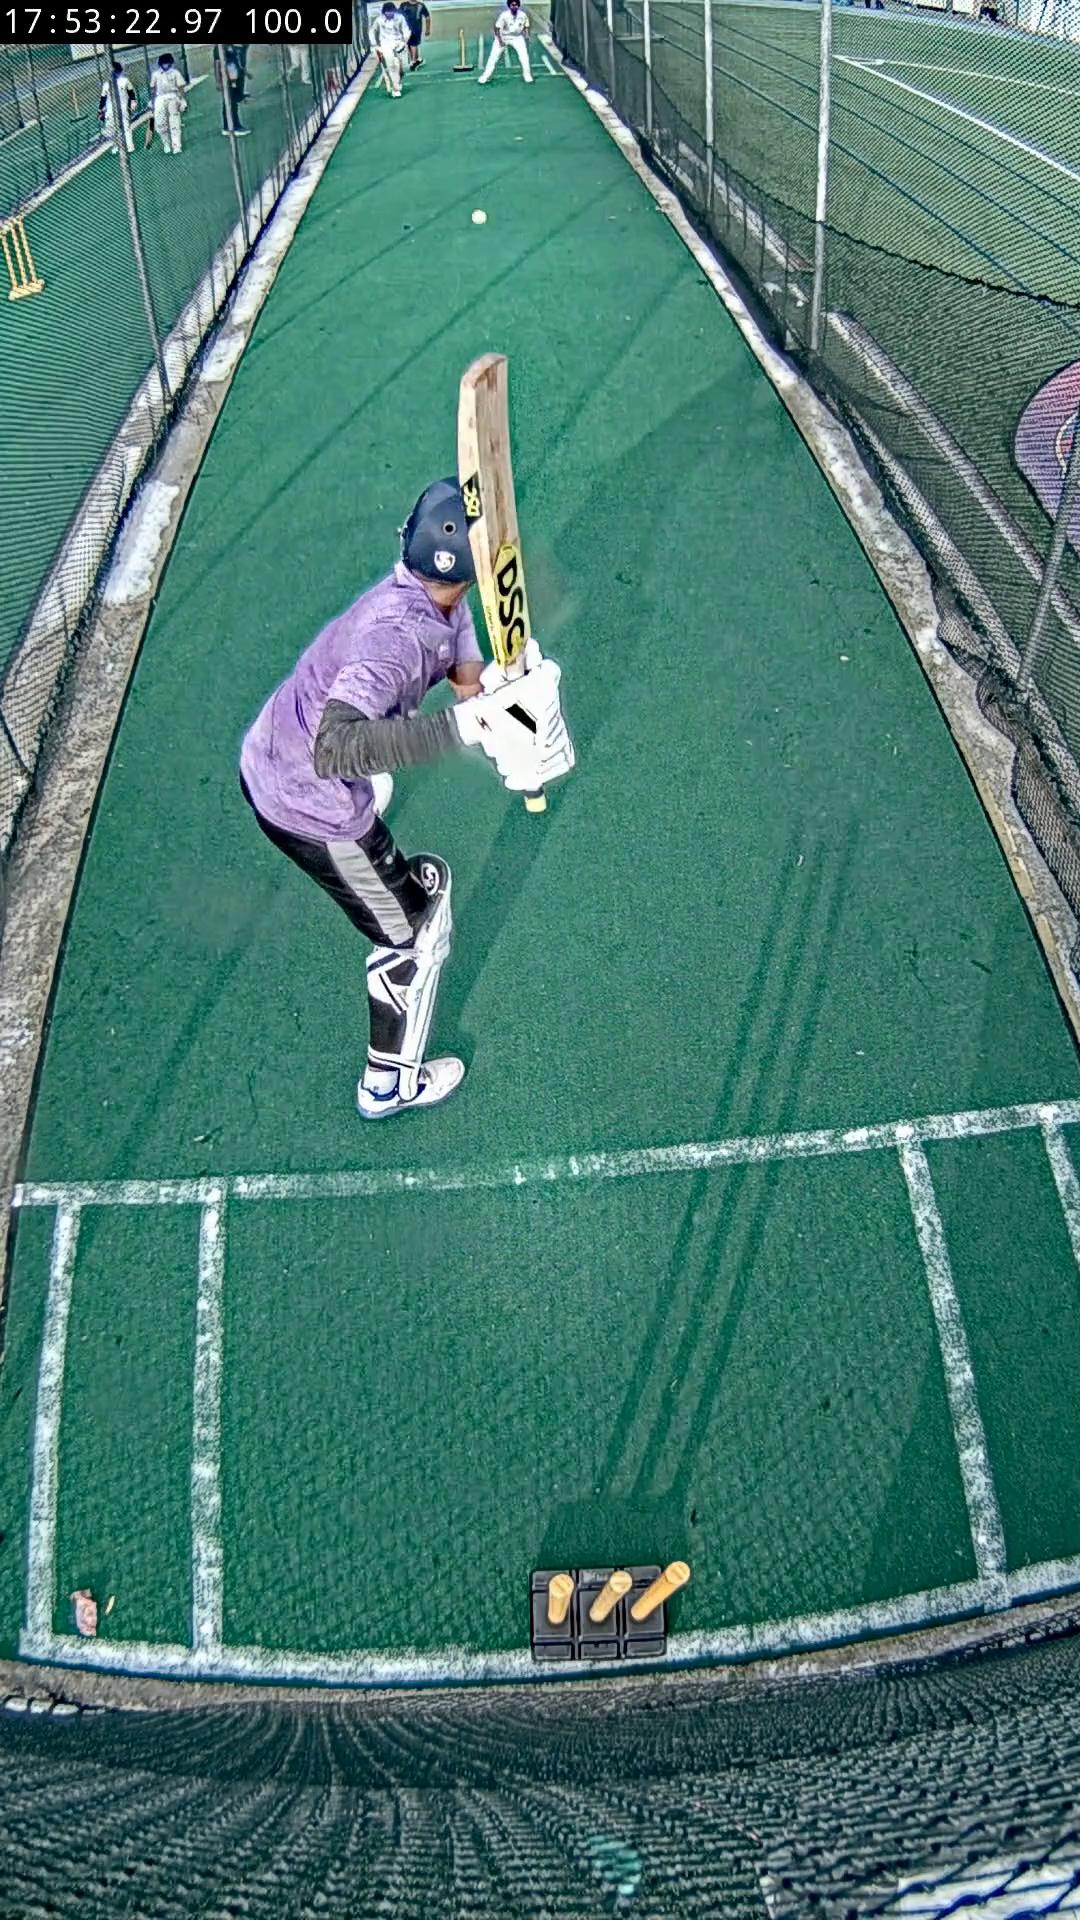ball: (472, 210, 488, 223)
bat: (458, 352, 533, 670)
gloves: (454, 645, 574, 791)
helmet: (397, 476, 476, 583)
pads: (390, 855, 454, 1068)
stumps: (529, 1564, 690, 1665)
